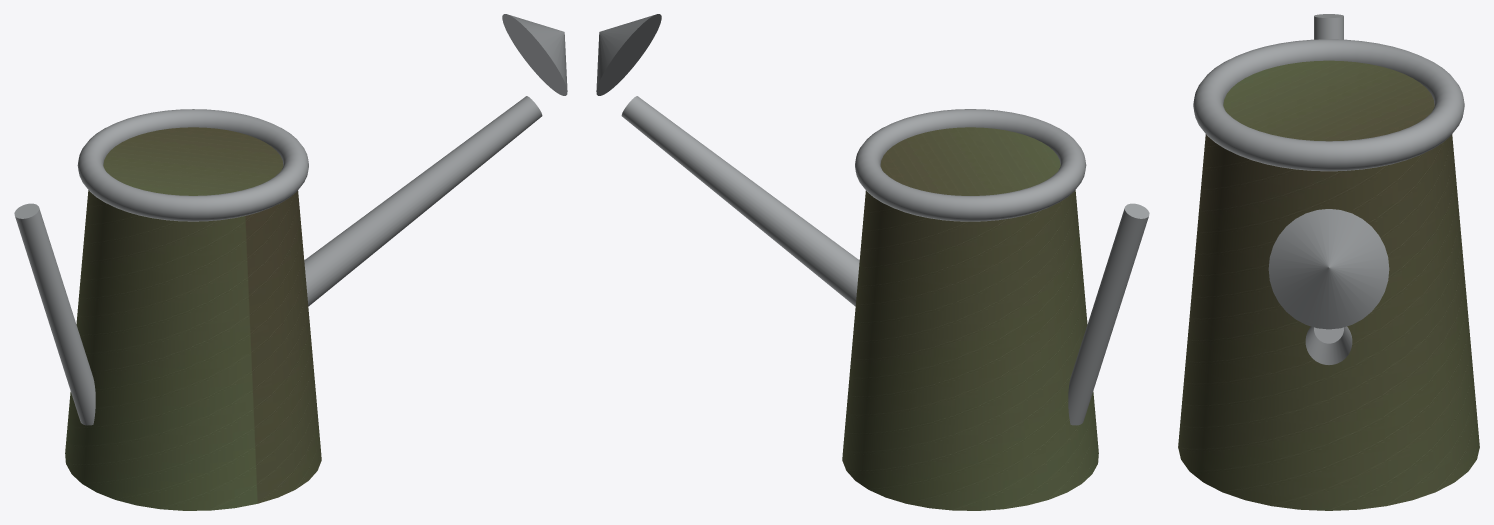
The model's file is state-default.glb.
3 views of the same model, side by side, from view 1: azimuth 30°, elevation 25°; view 2: azimuth 150°, elevation 25°; view 3: azimuth 270°, elevation 25° (orthographic). The views are drawn at different scales.
Parts seen in each view (by area): view 1: assetPrim:60e08e06242f38-19c74564e1e:wc-body, assetPrim:60e08e06242f38-19c74564e1e:wc-handle-top, assetPrim:60e08e06242f38-19c74564e1e:wc-spout, assetPrim:60e08e06242f38-19c74564e1e:wc-handle-back, assetPrim:60e08e06242f38-19c74564e1e:wc-rose; view 2: assetPrim:60e08e06242f38-19c74564e1e:wc-body, assetPrim:60e08e06242f38-19c74564e1e:wc-handle-top, assetPrim:60e08e06242f38-19c74564e1e:wc-spout, assetPrim:60e08e06242f38-19c74564e1e:wc-handle-back, assetPrim:60e08e06242f38-19c74564e1e:wc-rose; view 3: assetPrim:60e08e06242f38-19c74564e1e:wc-body, assetPrim:60e08e06242f38-19c74564e1e:wc-handle-top, assetPrim:60e08e06242f38-19c74564e1e:wc-rose, assetPrim:60e08e06242f38-19c74564e1e:wc-spout, assetPrim:60e08e06242f38-19c74564e1e:wc-handle-back.
Part boxes in pixels (x1,y1,x2,y2): assetPrim:60e08e06242f38-19c74564e1e:wc-body: [65, 127, 321, 510]; assetPrim:60e08e06242f38-19c74564e1e:wc-handle-top: [77, 109, 308, 221]; assetPrim:60e08e06242f38-19c74564e1e:wc-spout: [304, 96, 542, 306]; assetPrim:60e08e06242f38-19c74564e1e:wc-handle-back: [14, 203, 95, 425]; assetPrim:60e08e06242f38-19c74564e1e:wc-rose: [502, 14, 567, 95]; assetPrim:60e08e06242f38-19c74564e1e:wc-body: [842, 127, 1098, 510]; assetPrim:60e08e06242f38-19c74564e1e:wc-handle-top: [855, 109, 1086, 221]; assetPrim:60e08e06242f38-19c74564e1e:wc-spout: [621, 96, 859, 306]; assetPrim:60e08e06242f38-19c74564e1e:wc-handle-back: [1068, 203, 1149, 425]; assetPrim:60e08e06242f38-19c74564e1e:wc-rose: [596, 14, 661, 95]; assetPrim:60e08e06242f38-19c74564e1e:wc-body: [1178, 60, 1479, 510]; assetPrim:60e08e06242f38-19c74564e1e:wc-handle-top: [1193, 39, 1464, 171]; assetPrim:60e08e06242f38-19c74564e1e:wc-rose: [1268, 209, 1389, 329]; assetPrim:60e08e06242f38-19c74564e1e:wc-spout: [1305, 326, 1352, 364]; assetPrim:60e08e06242f38-19c74564e1e:wc-handle-back: [1314, 14, 1343, 39].
Bounding box in the file's own units: 0.4925 × 0.3088 × 0.2.
5 materials, 1 textured.
